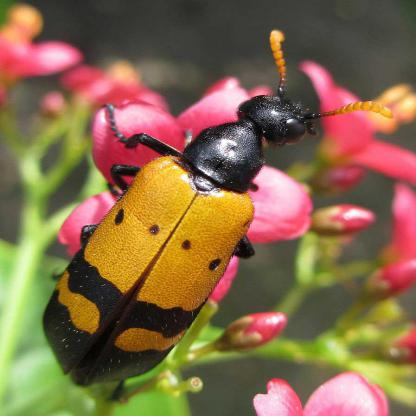blister beetle: (41, 29, 400, 388)
